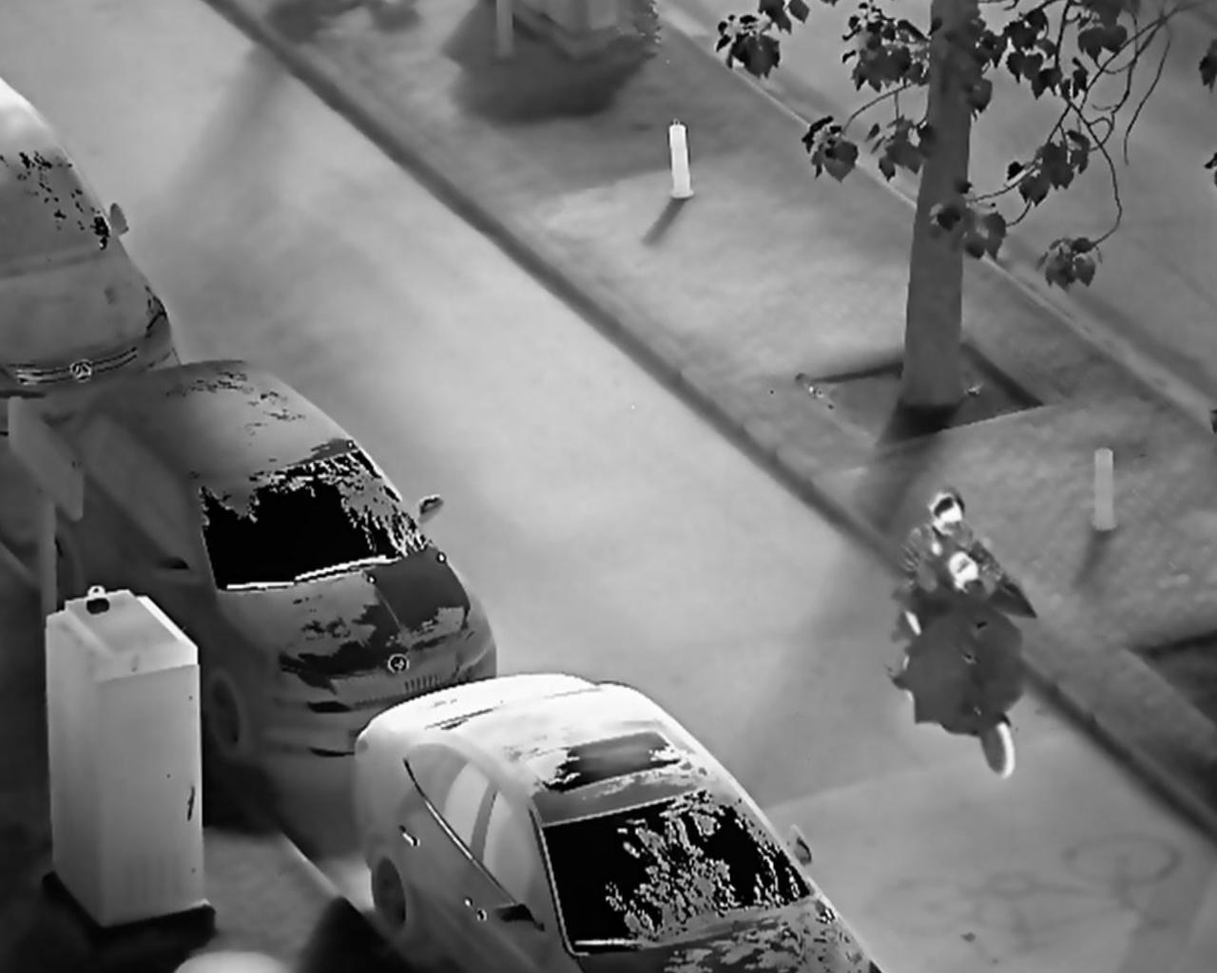person: (894, 485, 1015, 624)
